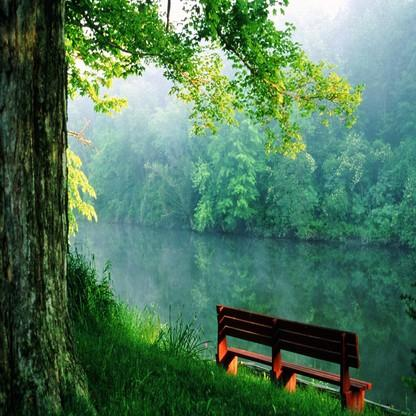obstacle: (204, 280, 383, 411)
